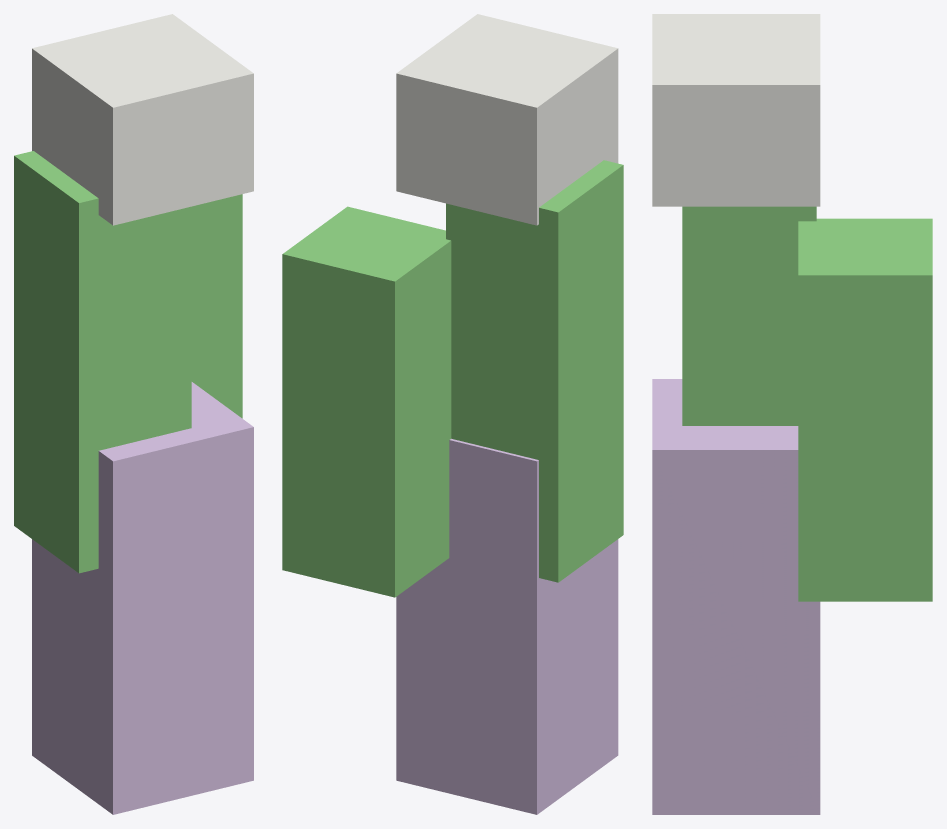
File: Item_Herb_AMF_Pawmint_Bundle1.glb
3 renders of one model, left to right at view 1: azimuth 30°, elevation 25°; view 2: azimuth 150°, elevation 25°; view 3: azimuth 270°, elevation 25°, orthographic. The views are drawn at different scales.
Visible parts, largest first — view 1: Item_Herb_AMF_Pawmint_Bundle1; view 2: Item_Herb_AMF_Pawmint_Bundle1; view 3: Item_Herb_AMF_Pawmint_Bundle1.
Part boxes in pixels (x1,y1,x2,y2): Item_Herb_AMF_Pawmint_Bundle1: [14, 14, 253, 814]; Item_Herb_AMF_Pawmint_Bundle1: [282, 14, 623, 814]; Item_Herb_AMF_Pawmint_Bundle1: [652, 14, 932, 814].
Bounding box in the file's own units: 0.0781 × 0.24 × 0.0834.
